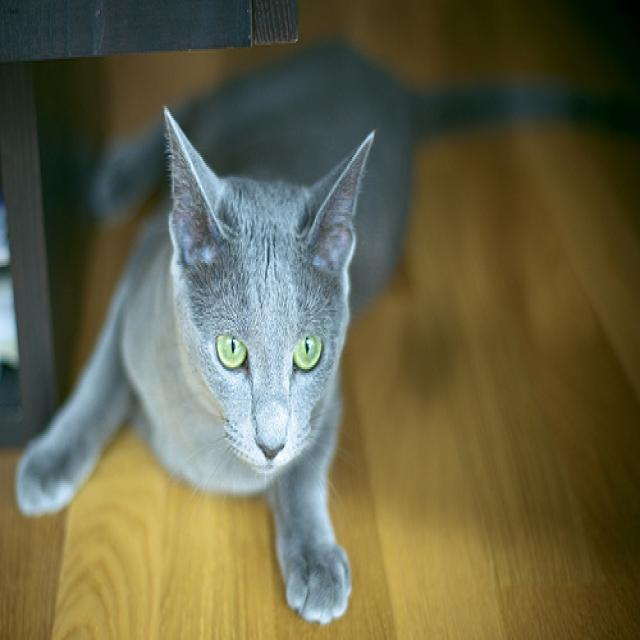Russian_Blue: (159, 104, 378, 480)
